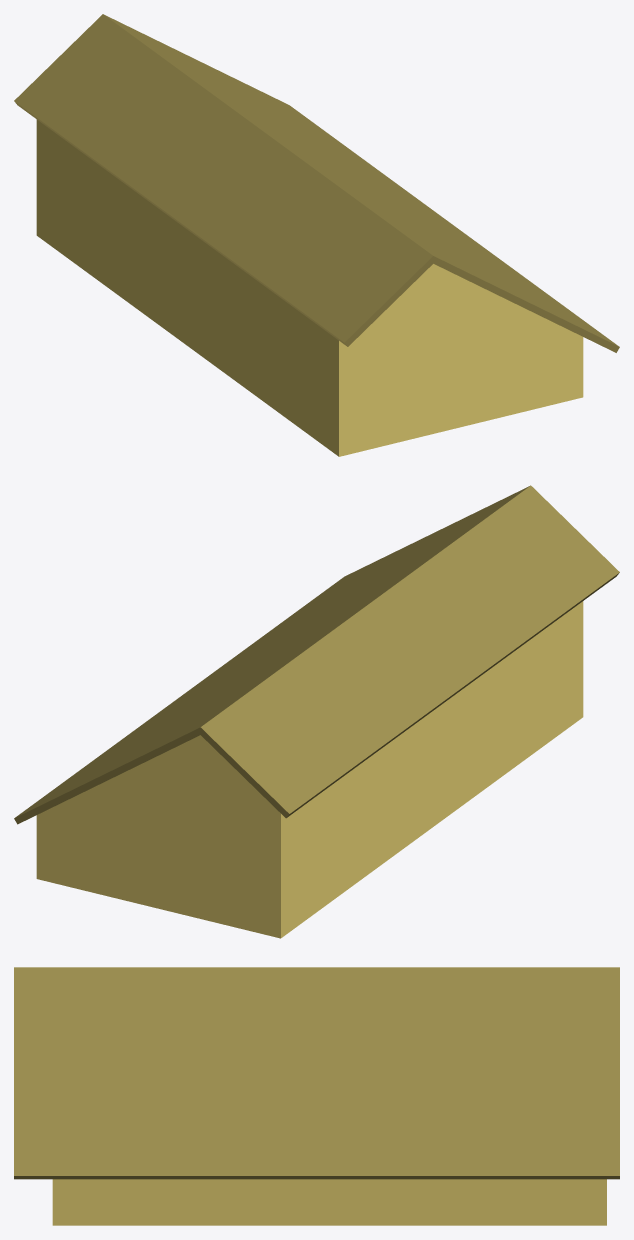
Rendered from result.glb.
3 renders of one model, top to bottom at view 1: azimuth 30°, elevation 25°; view 2: azimuth 150°, elevation 25°; view 3: azimuth 270°, elevation 25°, orthographic. The views are drawn at different scales.
Visible parts, largest first — view 1: 3a5a7f86-0d9b-4f3b-84b6-d389e77fc237__undefined (×2), 0f28731c-32ba-4a53-a354-1197fa913120__undefined; view 2: 3a5a7f86-0d9b-4f3b-84b6-d389e77fc237__undefined (×2), 0f28731c-32ba-4a53-a354-1197fa913120__undefined; view 3: 3a5a7f86-0d9b-4f3b-84b6-d389e77fc237__undefined, 0f28731c-32ba-4a53-a354-1197fa913120__undefined.
Boxes of the visible parts, x1,y1,x2,y2 form: 3a5a7f86-0d9b-4f3b-84b6-d389e77fc237__undefined (×2): (14,14,619,352); 0f28731c-32ba-4a53-a354-1197fa913120__undefined: (36,119,583,456); 3a5a7f86-0d9b-4f3b-84b6-d389e77fc237__undefined (×2): (14,485,619,824); 0f28731c-32ba-4a53-a354-1197fa913120__undefined: (36,601,583,938); 3a5a7f86-0d9b-4f3b-84b6-d389e77fc237__undefined: (14,967,619,1179); 0f28731c-32ba-4a53-a354-1197fa913120__undefined: (52,1179,606,1225).
Size of the model in its own units: 1127 by 776 by 2340.
